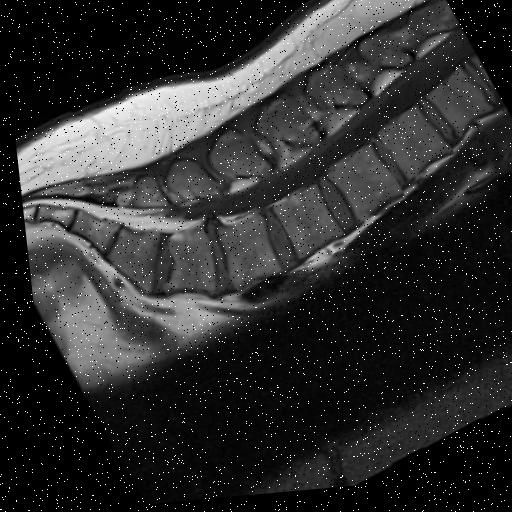L1: (372, 112, 446, 187)
L2: (321, 150, 397, 229)
L3: (266, 189, 335, 263)
L4: (212, 217, 273, 295)
L5: (153, 232, 207, 297)
S1: (101, 230, 152, 296)
